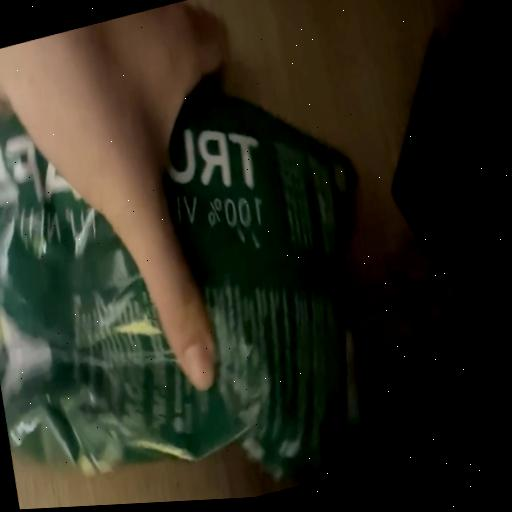cafe_xay: (0, 87, 362, 475)
